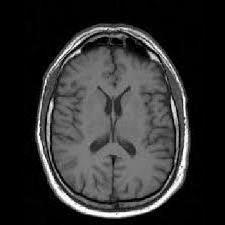Normal_Brain: (44, 6, 199, 225)
